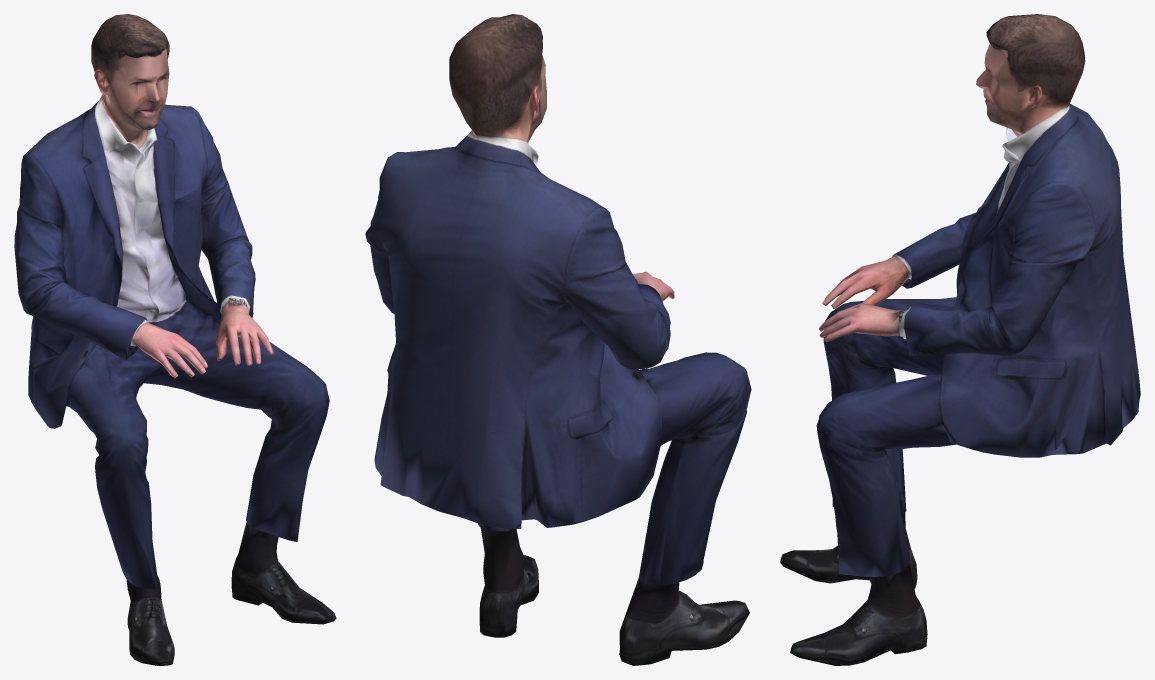
File: seated-scan-4.glb
The picture shows the model from 3 angles, left to right: view 1: azimuth 30°, elevation 25°; view 2: azimuth 150°, elevation 25°; view 3: azimuth 270°, elevation 25°; orthographic projection. The views are drawn at different scales.
Parts seen in each view (by area): view 1: seated-scan-4; view 2: seated-scan-4; view 3: seated-scan-4.
Boxes of the visible parts, bbox=[...] form: seated-scan-4: bbox=[14, 14, 336, 665]; seated-scan-4: bbox=[365, 14, 751, 665]; seated-scan-4: bbox=[780, 14, 1140, 665].
Size of the model in its own units: 0.566 by 1.3 by 0.7122.
Materials: 1 (1 with a texture image).
